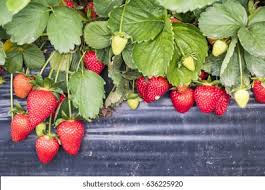ripe: (24, 86, 56, 126), (54, 117, 84, 157), (135, 73, 169, 102), (194, 81, 222, 114), (8, 108, 34, 143), (35, 133, 60, 164), (82, 48, 107, 75), (170, 85, 194, 113), (13, 70, 34, 98), (212, 87, 230, 118), (252, 77, 263, 103)
unripe: (110, 31, 128, 56), (234, 88, 250, 110), (211, 38, 229, 56), (179, 53, 196, 72), (124, 92, 140, 109)
